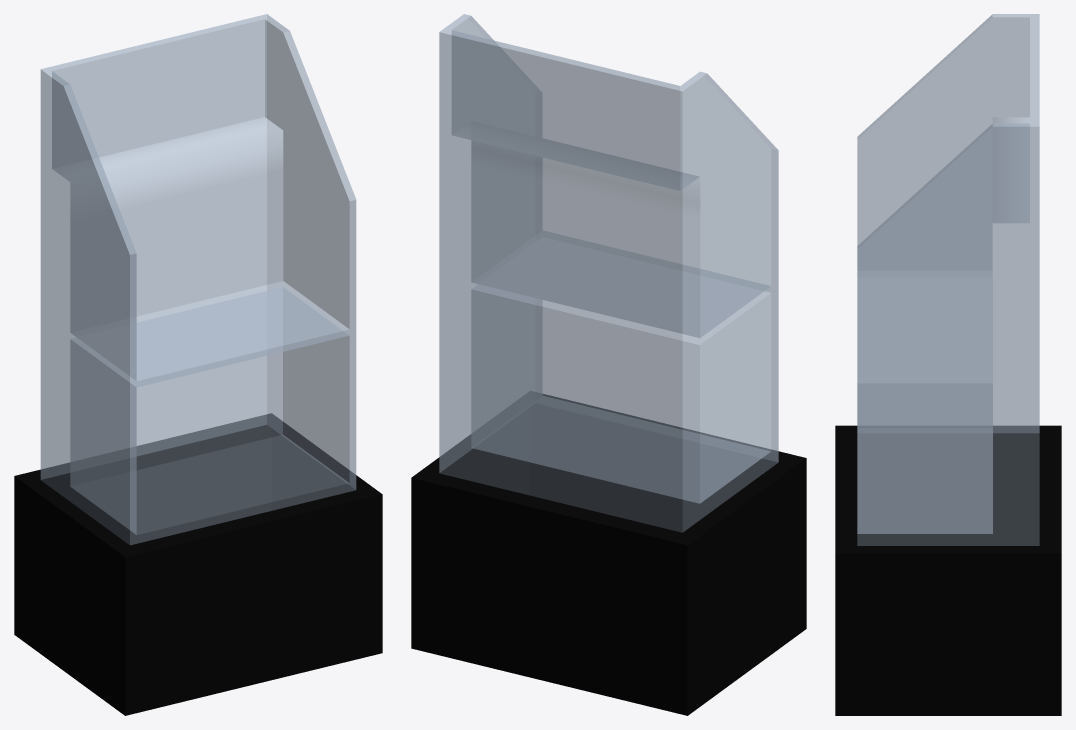
The model's file is objNewsPaperStandPlastic.fbx.
3 renders of one model, left to right at view 1: azimuth 30°, elevation 25°; view 2: azimuth 150°, elevation 25°; view 3: azimuth 270°, elevation 25°, orthographic. The views are drawn at different scales.
Visible parts, largest first — view 1: NewsStand; view 2: NewsStand; view 3: NewsStand.
Part boxes in pixels (x1,y1,x2,y2): NewsStand: (14,14,382,715); NewsStand: (411,14,806,715); NewsStand: (835,14,1061,715).
Bounding box in the file's own units: 0.4726 × 1 × 0.3525.
